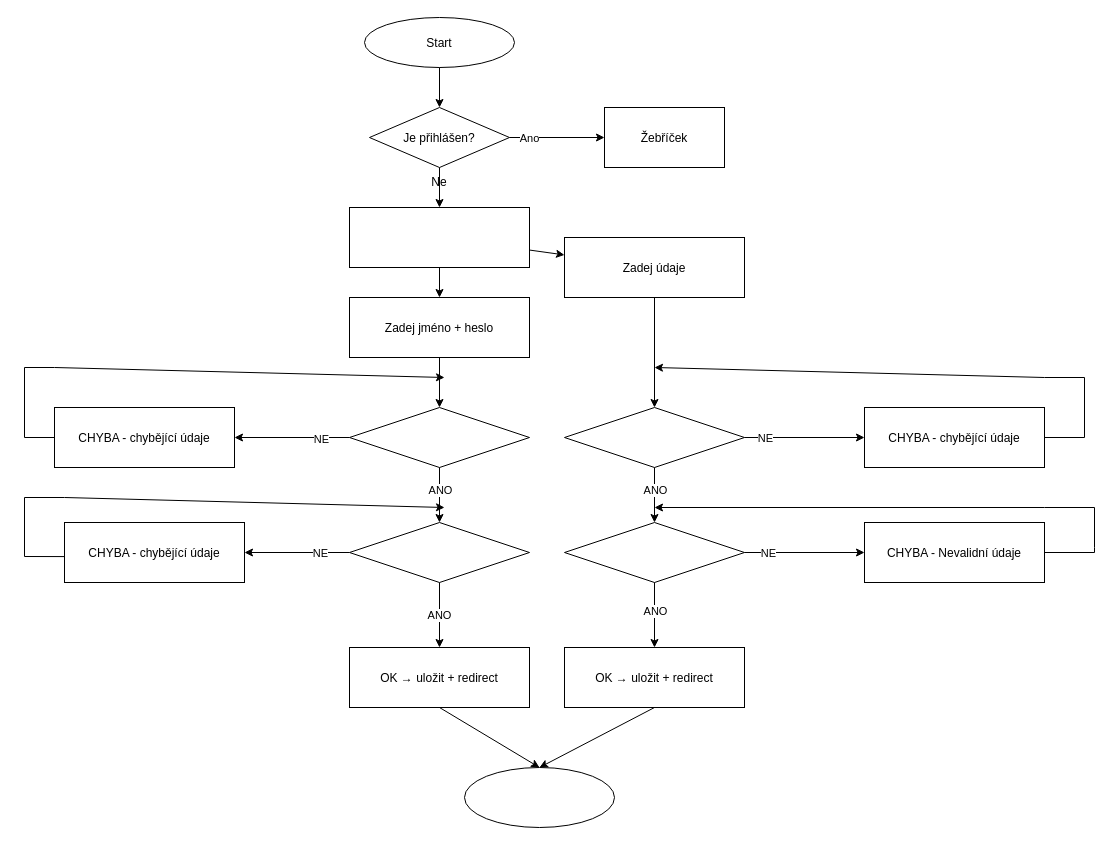
Some shapes in this 1120 by 845 pixel diagram are drawn without their labels. Here are the shapes that lost their labels. From the top down, the box of each, then its label:
(348, 206, 530, 268): Login / Registrace
(348, 406, 530, 468): Uživatel existuje?
(564, 406, 744, 468): Jméno existuje?
(348, 522, 530, 582): Heslo správné?
(564, 522, 744, 582): Validní údaje?
(464, 766, 614, 828): Konec
